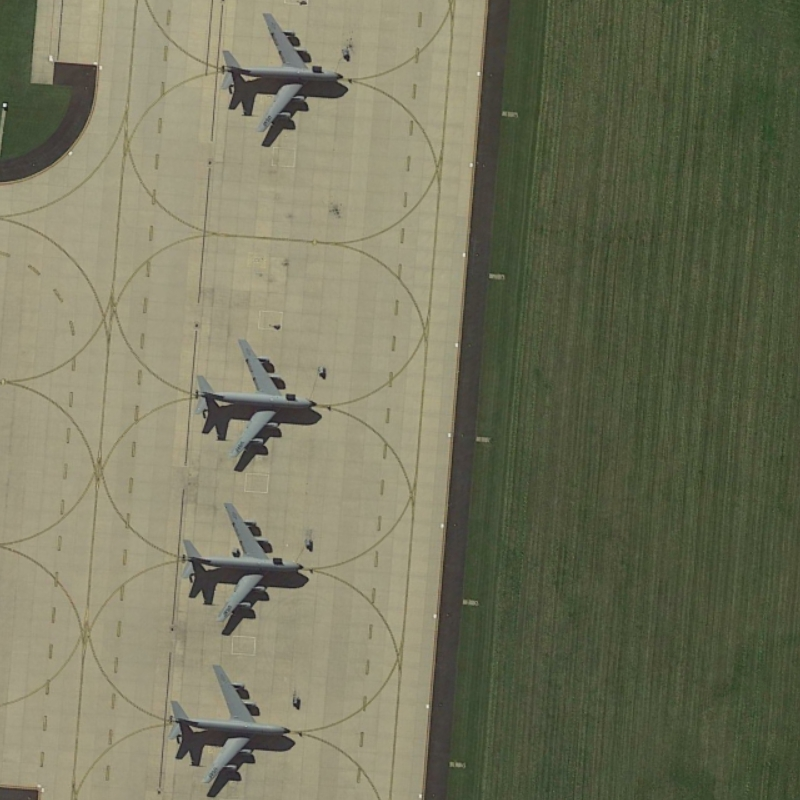A14: (188, 328, 321, 478), (176, 498, 308, 640), (165, 659, 295, 799), (215, 9, 348, 140)
